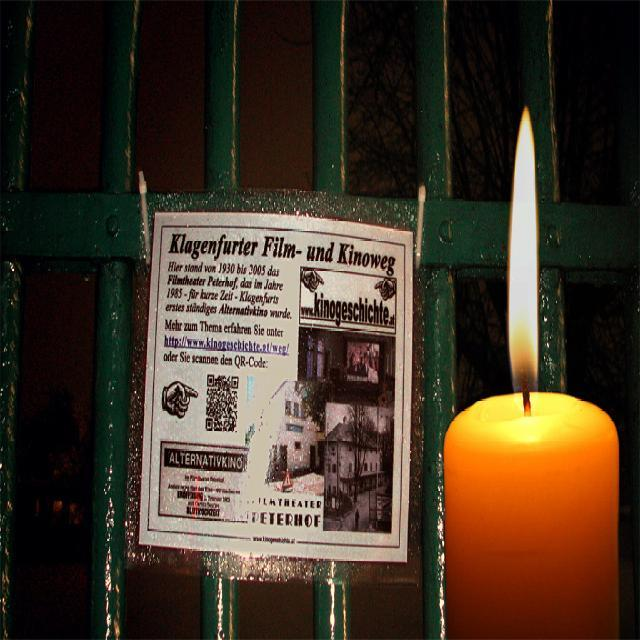qr-code: (206, 374, 238, 432)
